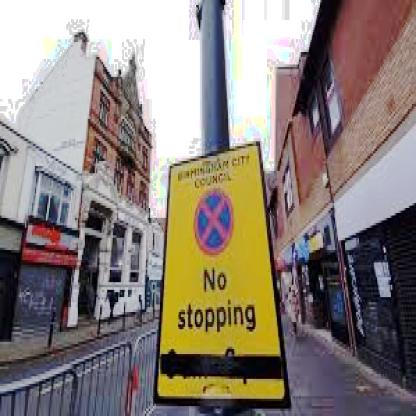No stopping: (192, 190, 238, 254)
